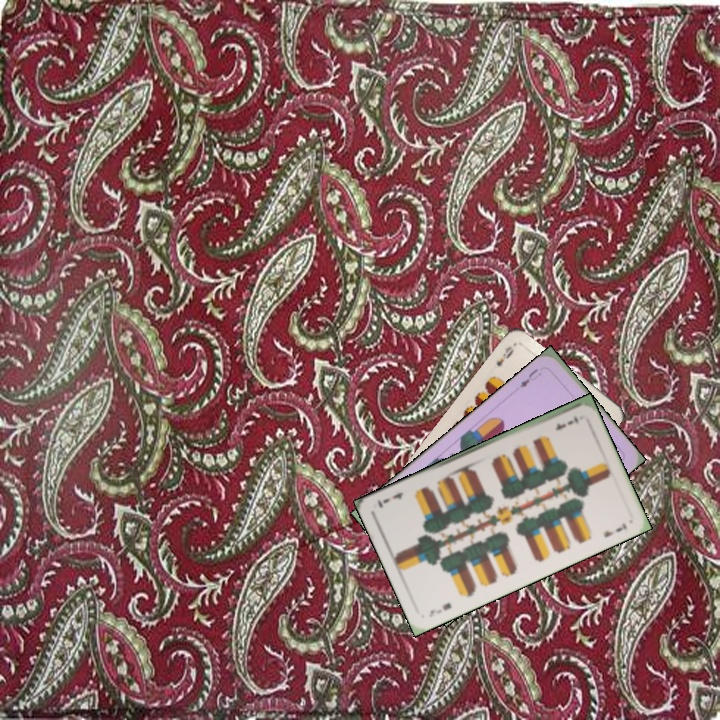E7: (552, 411, 580, 433), (425, 599, 454, 620)
E9: (492, 342, 516, 369)
EU: (515, 364, 544, 390)
